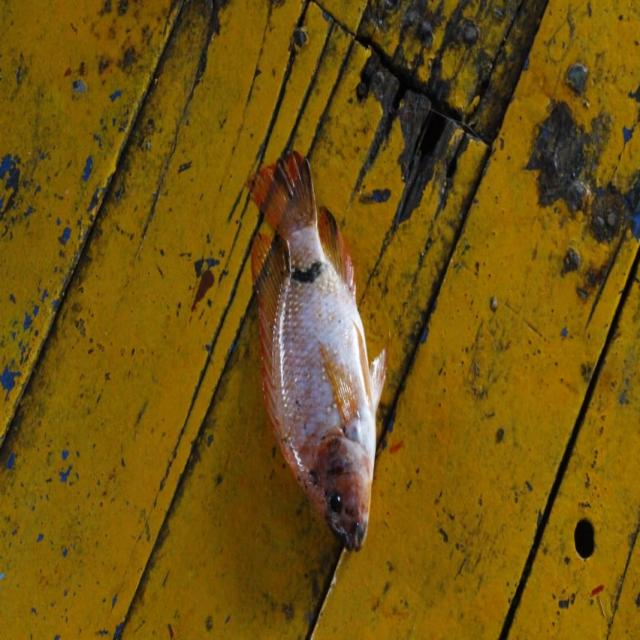ikan: (230, 144, 406, 566)
